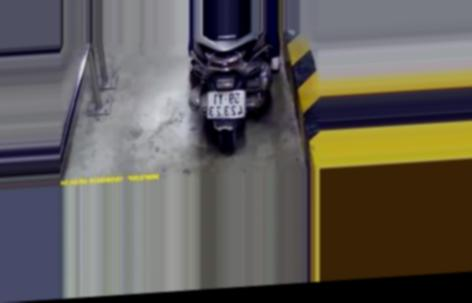License_Plate: (204, 85, 250, 124)
